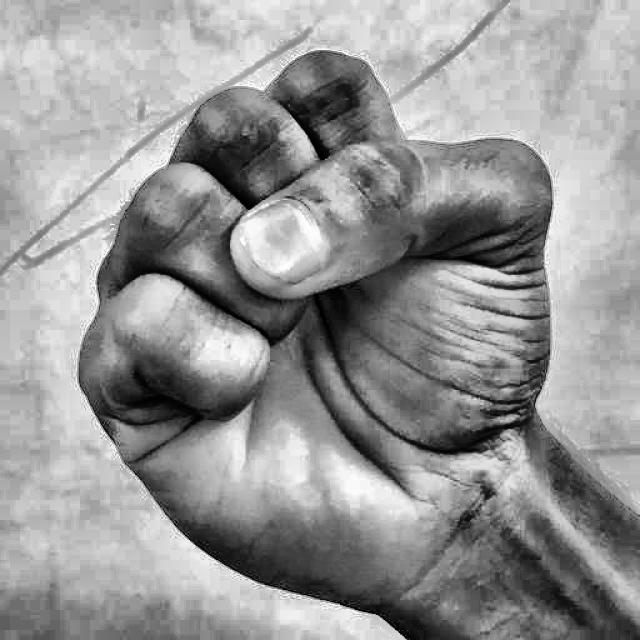Sha: (51, 26, 580, 640)
